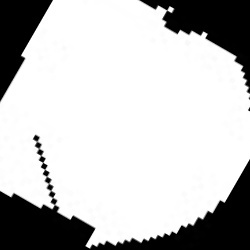spot: (1, 2, 249, 249)
